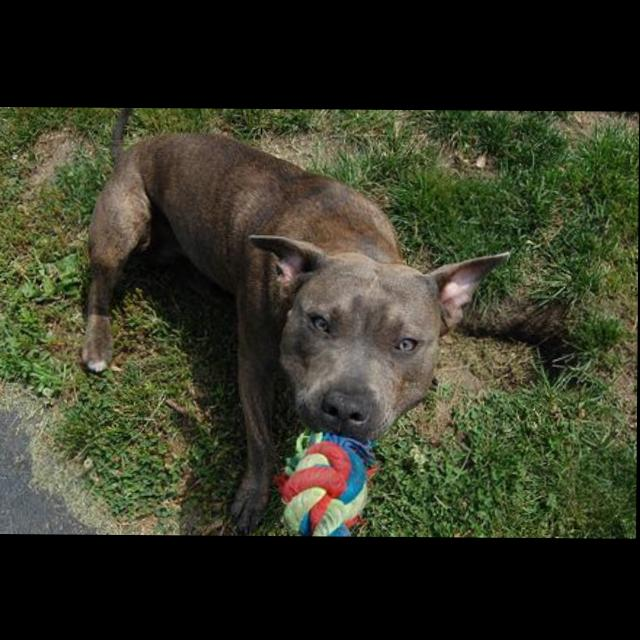amstaff: (80, 107, 512, 536)
